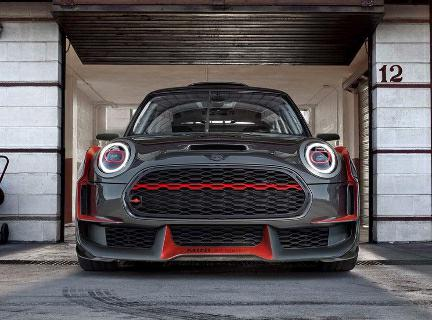MINI-JCW: (67, 69, 369, 278)
